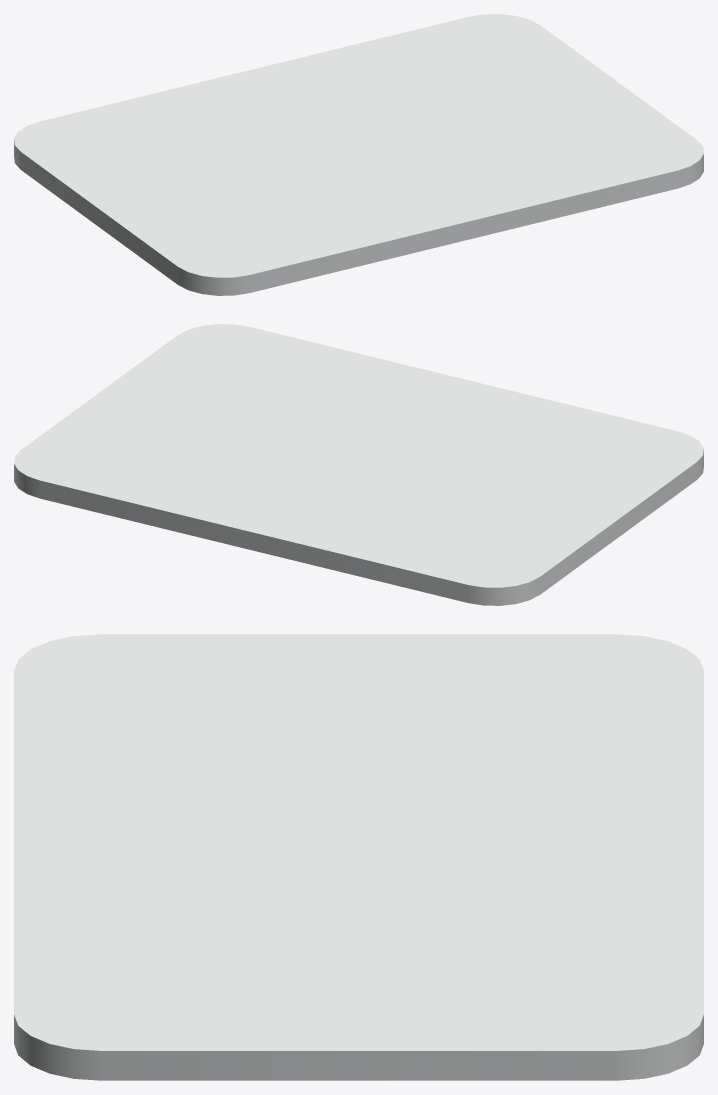
File: Platform.Rounded.002.fbx
3 views of the same model, one above another, from view 1: azimuth 30°, elevation 25°; view 2: azimuth 150°, elevation 25°; view 3: azimuth 270°, elevation 25° (orthographic). The views are drawn at different scales.
Visible parts, largest first — view 1: Platform.Rounded.002; view 2: Platform.Rounded.002; view 3: Platform.Rounded.002.
Part boxes in pixels (left/top/right/bottom): Platform.Rounded.002: left=14, top=14, right=703, bottom=295; Platform.Rounded.002: left=14, top=324, right=703, bottom=605; Platform.Rounded.002: left=14, top=634, right=703, bottom=1080.
Bounding box in the file's own units: 30 × 1 × 21.
